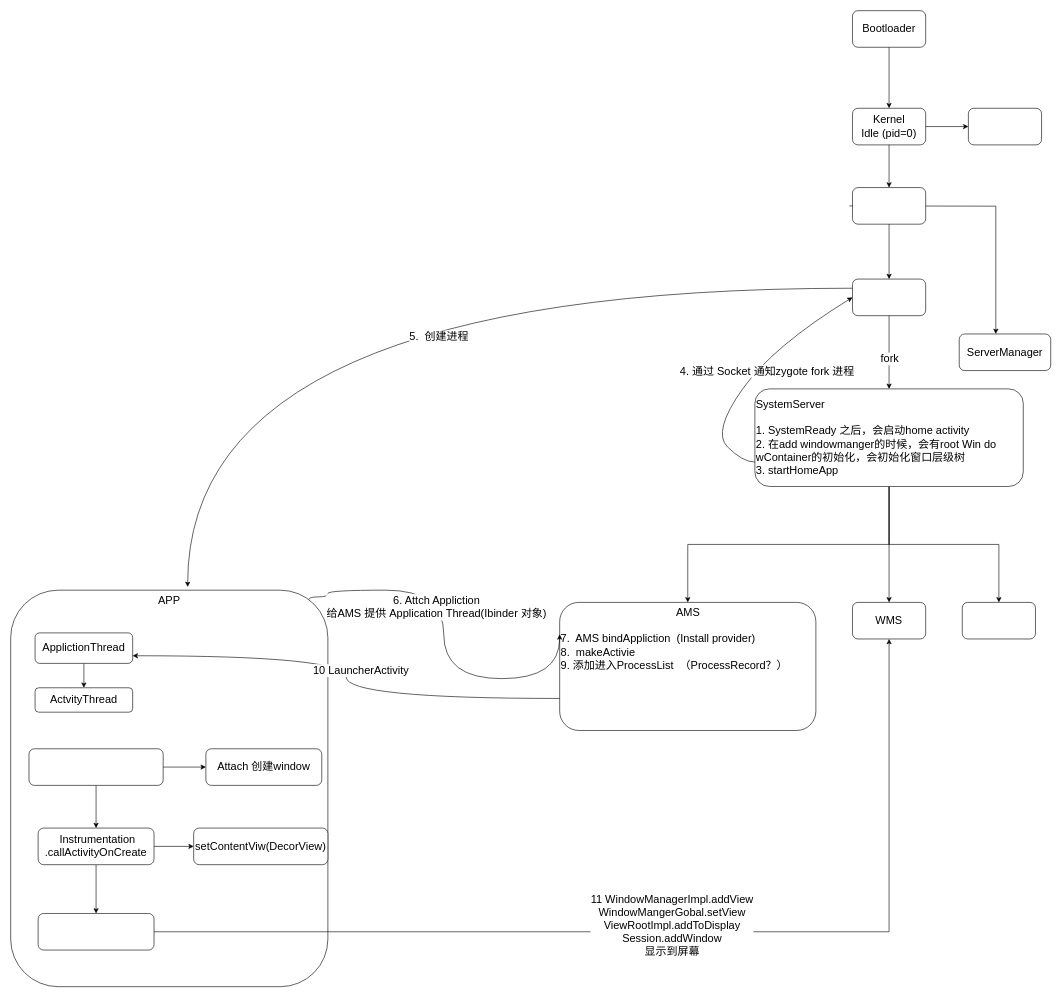
The diagram is 1061 pixels wide and 997 high, and some of its shapes have lost their labels. Here are the shapes that lost their labels. From the top down, the centre of each, then its label:
At (1005,126): "Kthread pid=2".
At (889,205): "Init pid=1".
At (889,297): "zygote".
At (998,620): "PMS".
At (95,766): "performLauncherActivity".
At (96,931): "HandleResumeActivity".
